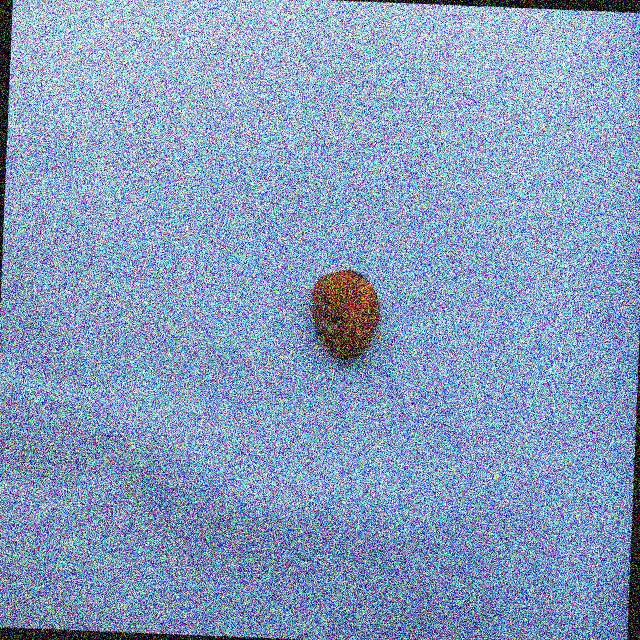grade3: (304, 264, 383, 366)
